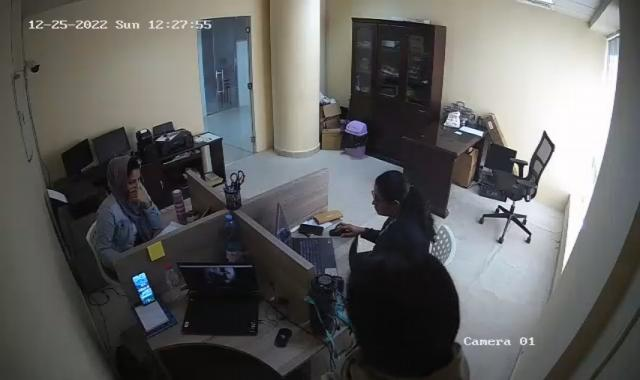no_hairnet: (345, 256, 471, 380), (369, 169, 424, 229), (107, 154, 142, 190)
